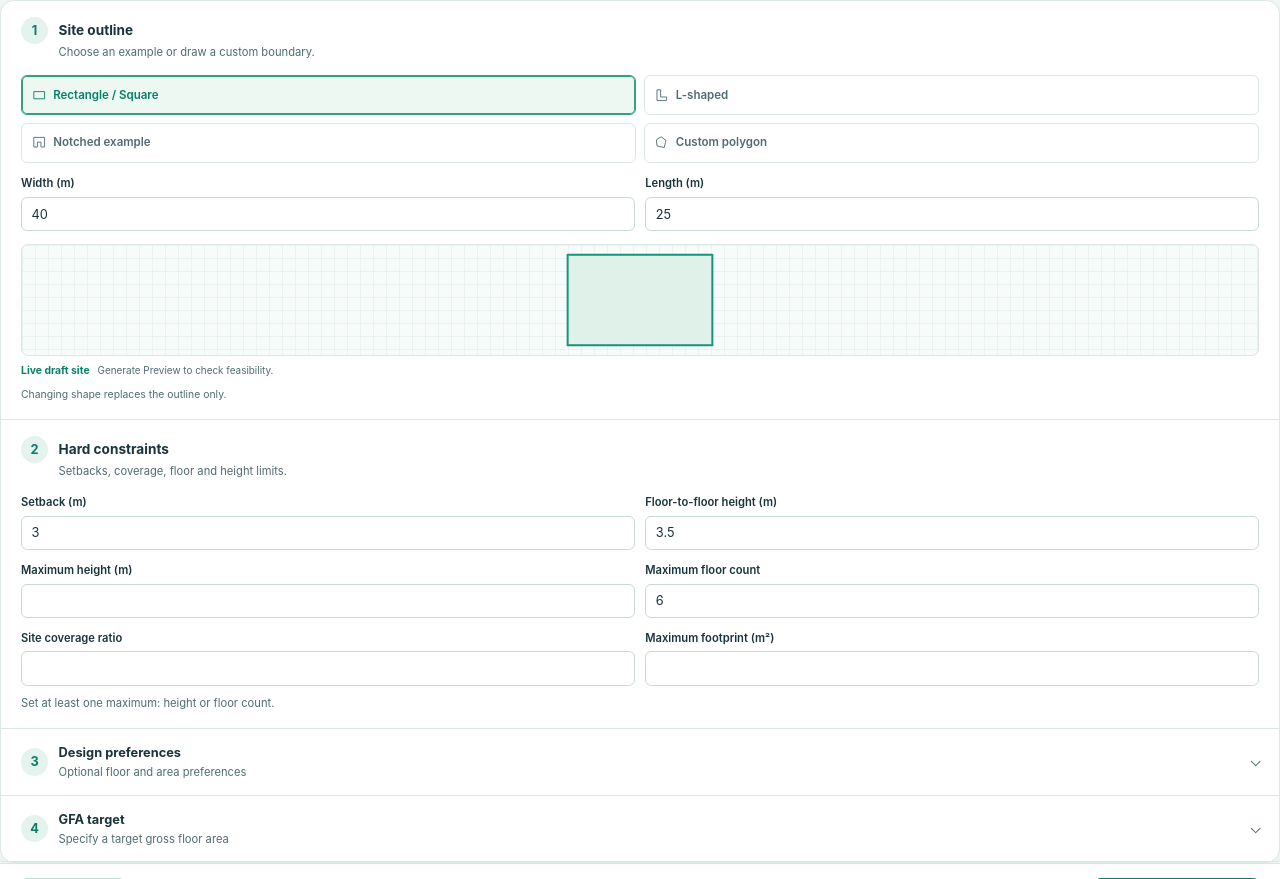
Test: ConfigurationForm › removes the live outline immediately for invalid Width (m)=Infinity
The width and height of the screenshot is (1280, 879).
Check: the picture named "Draft site preview" is shown, box [21,244,1259,356]
Replace the text in the field labelled "Width (m)" with "Infinity": [328, 214] box [21,197,635,231]
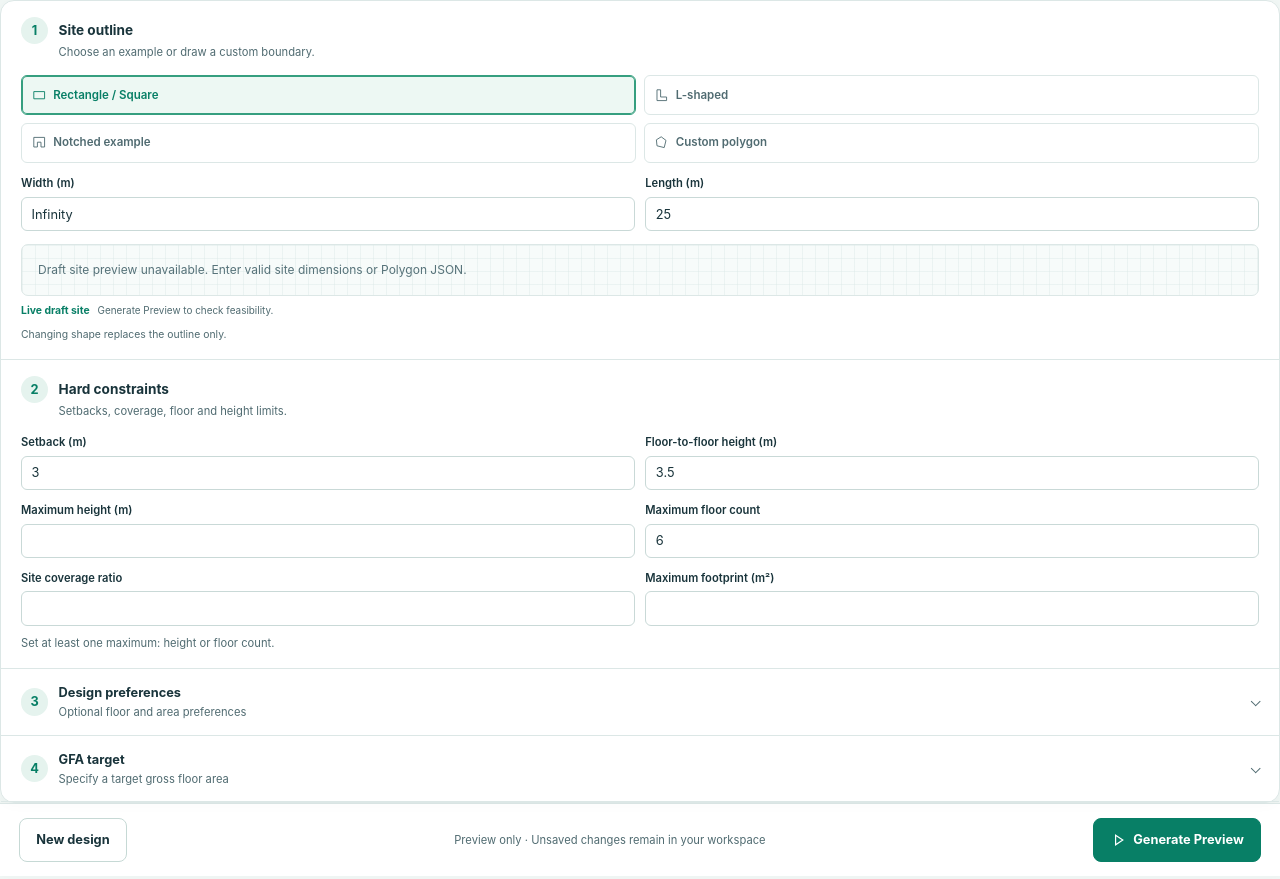
Check: the text "Draft site preview unavailable. Enter valid site dimensions or Polygon JSON." is shown, box [21,244,1259,296]
